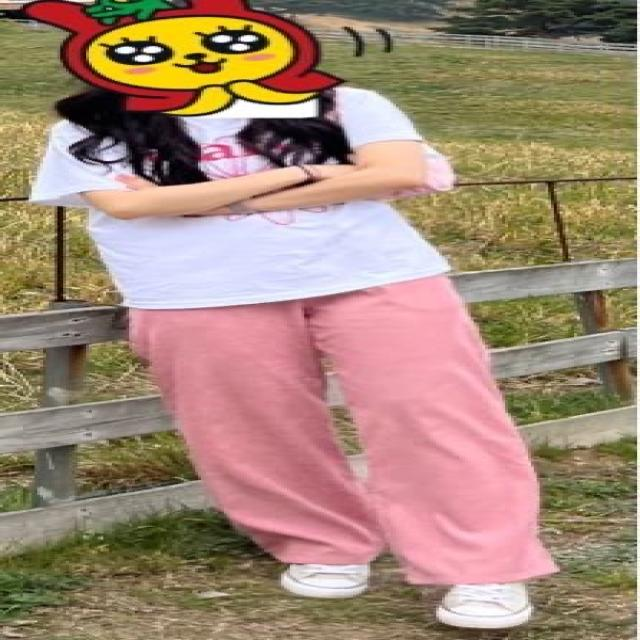cottonpants: (120, 276, 566, 584)
shortsleeve: (31, 80, 472, 312)
